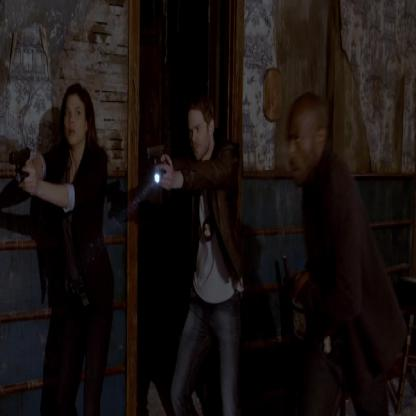Gun: (7, 146, 30, 184), (144, 140, 165, 171)
